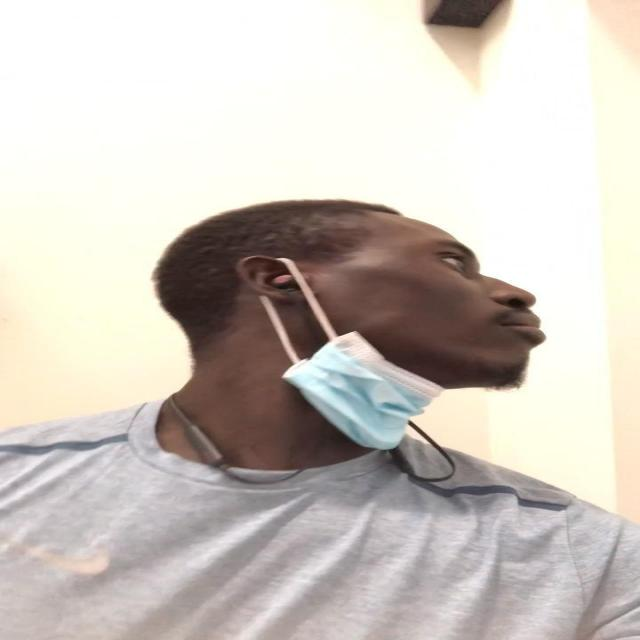face: (262, 216, 548, 396)
